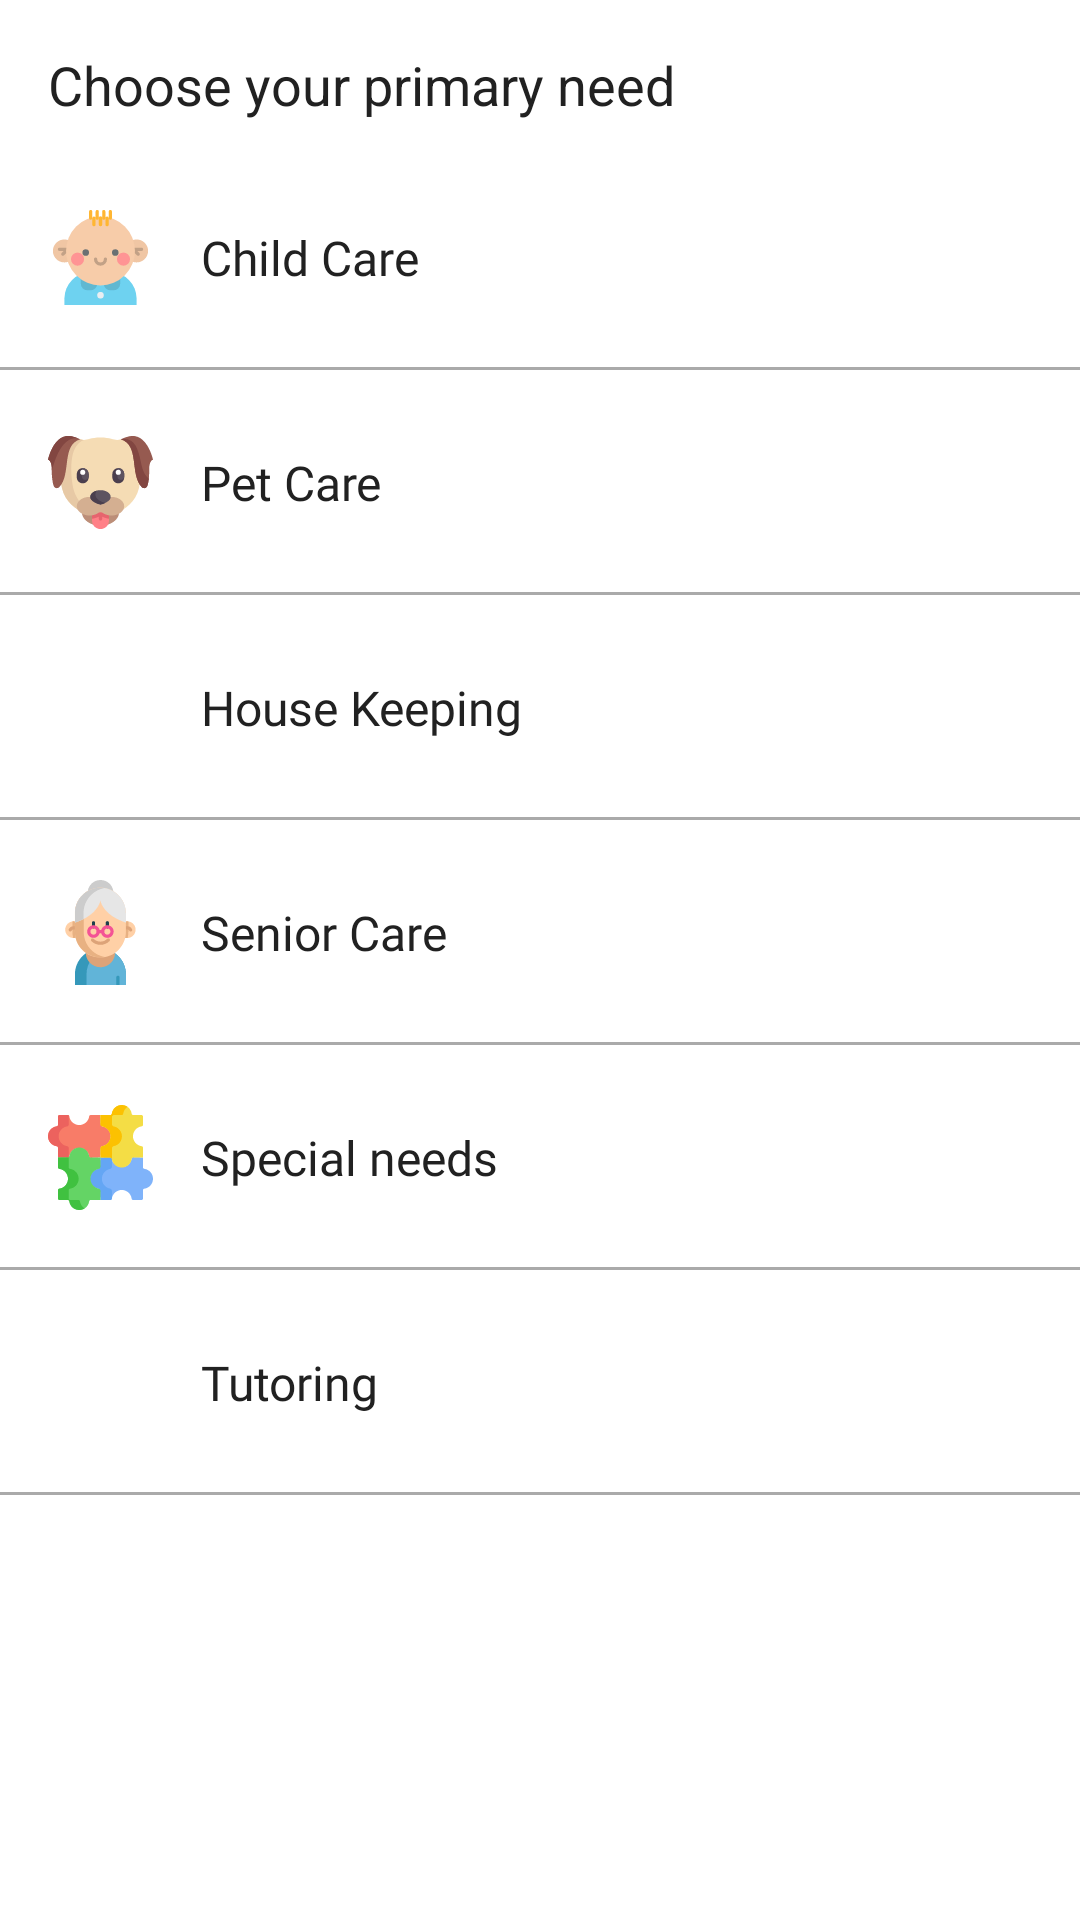

Where to tap for icons on this 1080x1920 app screen, as (x,y):
children: (100,257)
dog: (100,482)
puzzle: (100,1157)
woman: (100,932)
